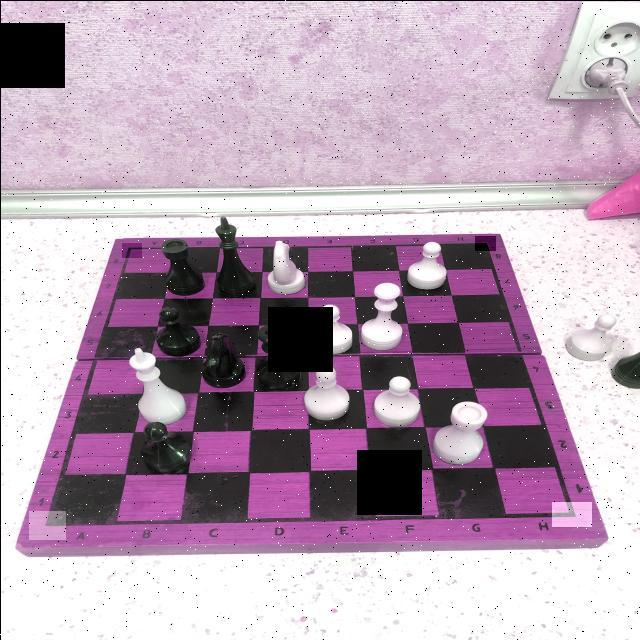chess-table-corners: (28, 510, 65, 539), (551, 501, 591, 526), (474, 235, 495, 250), (121, 242, 141, 257)
